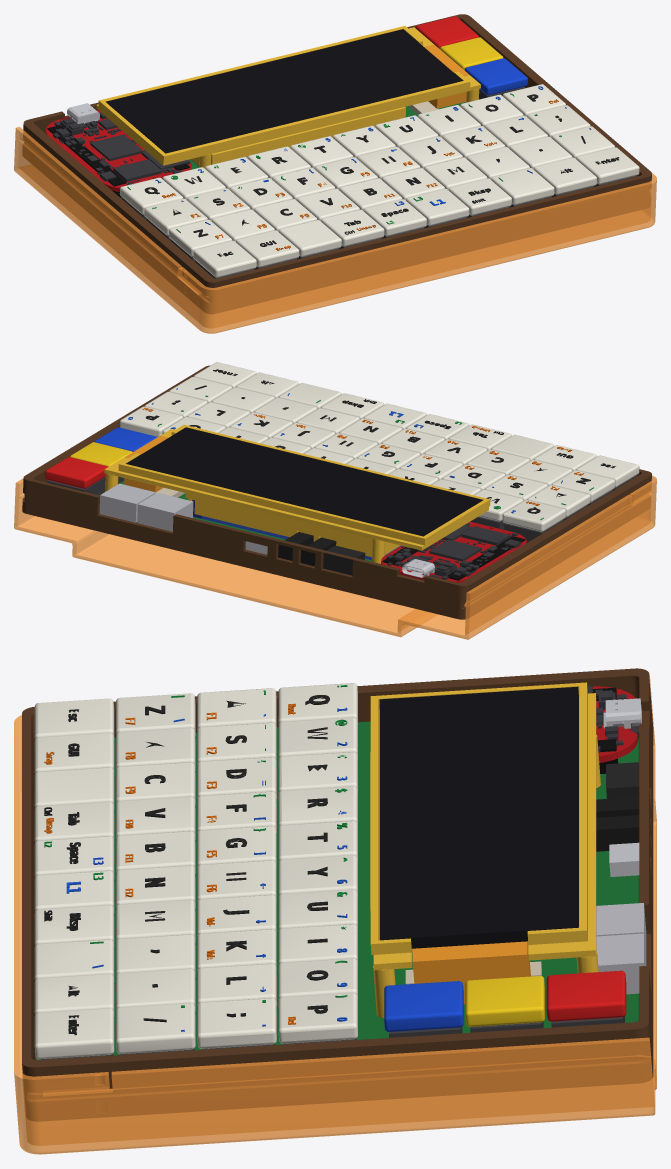
Rendered from cradle_walnut.glb.
The picture shows the model from 3 angles, top to bottom: view 1: azimuth 30°, elevation 25°; view 2: azimuth 150°, elevation 25°; view 3: azimuth 270°, elevation 25°; orthographic projection. The views are drawn at different scales.
Parts seen in each view (by area): view 1: Internals, Lid, Tray; view 2: Internals, Lid, Tray; view 3: Internals, Lid, Tray.
Part boxes in pixels (<box>): Internals: <box>46,16,639,278</box>; Lid: <box>14,127,656,333</box>; Tray: <box>23,14,651,313</box>; Internals: <box>45,362,639,582</box>; Lid: <box>14,475,656,639</box>; Tray: <box>22,365,651,619</box>; Internals: <box>34,682,646,1060</box>; Lid: <box>14,672,656,1154</box>; Tray: <box>22,668,653,1120</box>.
Bounding box in the file's own units: 0.1818 × 0.0365 × 0.1342.
